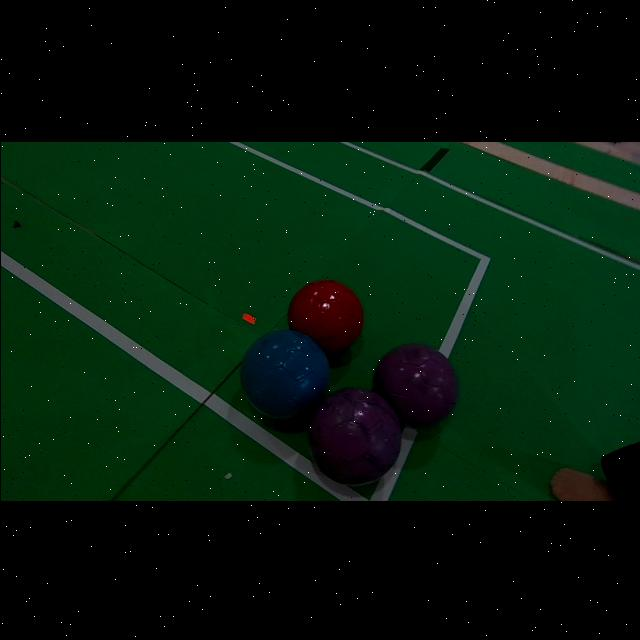B: (240, 329, 328, 418)
P: (308, 387, 401, 484), (373, 343, 458, 428)
R: (287, 278, 364, 354)
